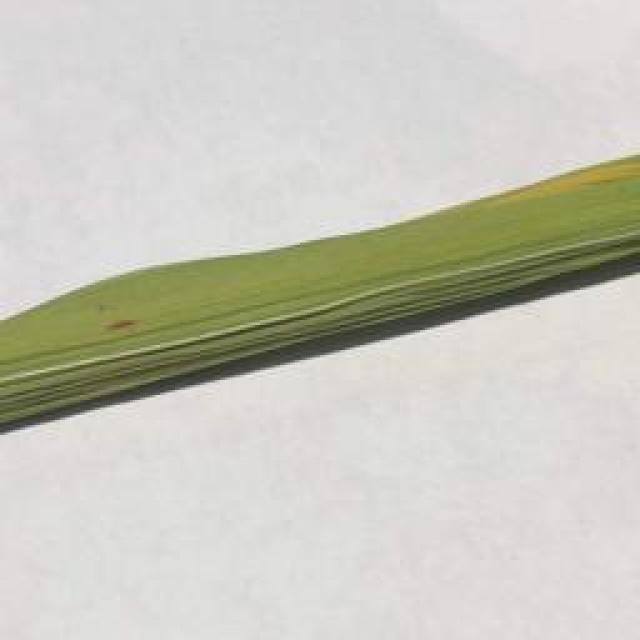Bacterial_Blight: (493, 156, 640, 220)
Brown_Spot: (100, 313, 146, 347)
